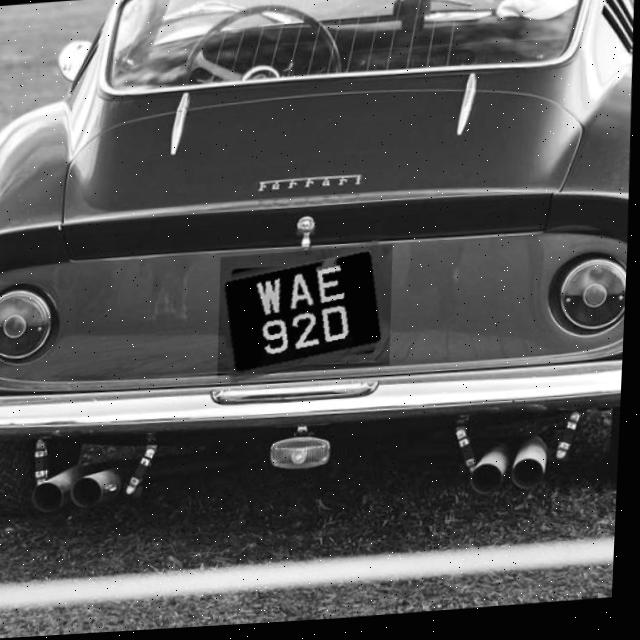LicensePlate: (218, 249, 397, 381)
